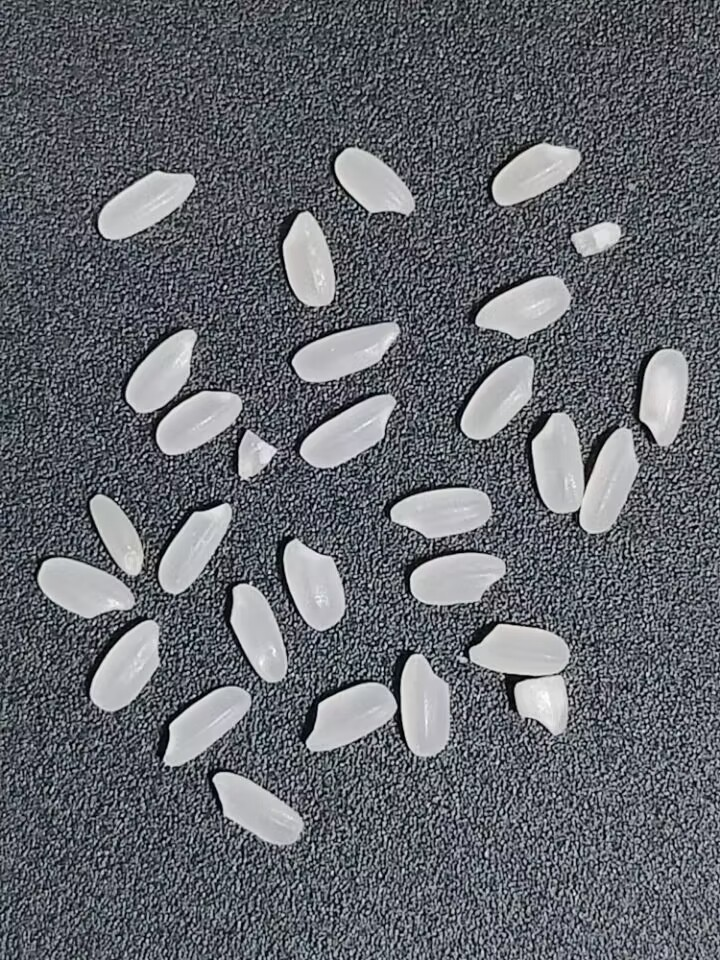broken: (507, 670, 579, 741), (568, 211, 630, 259), (227, 427, 279, 484)
rice: (150, 683, 260, 772), (92, 162, 201, 245), (288, 311, 406, 385), (118, 320, 205, 420), (299, 391, 403, 474), (152, 498, 237, 597), (296, 679, 401, 758), (85, 614, 168, 713), (576, 419, 645, 538), (206, 772, 308, 851), (467, 271, 580, 340), (30, 555, 138, 626), (279, 534, 353, 637), (457, 351, 542, 440), (464, 615, 572, 681), (490, 138, 587, 211), (398, 647, 460, 761), (152, 384, 243, 459), (273, 211, 340, 310), (524, 407, 584, 517), (386, 484, 497, 542), (229, 583, 289, 688), (332, 147, 417, 220), (635, 340, 691, 450), (406, 550, 507, 608), (85, 490, 144, 575)
